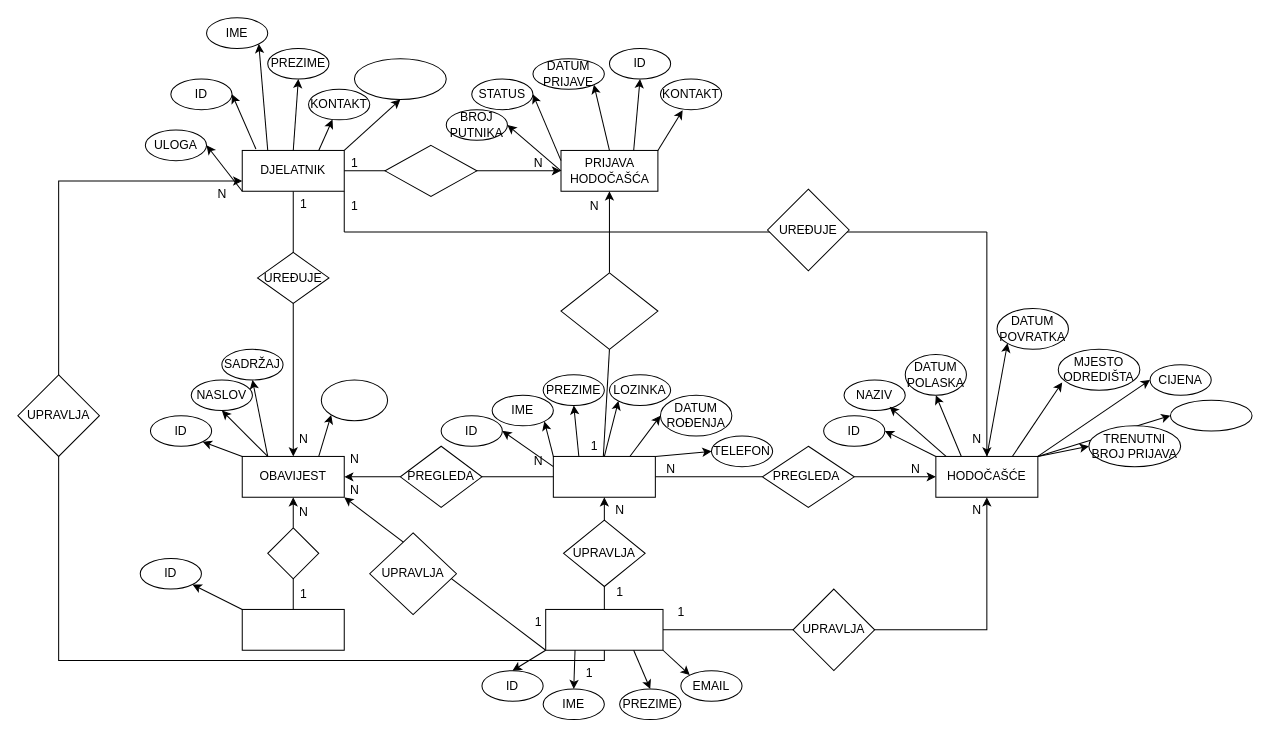
The diagram is 1270 pixels wide and 737 high, and some of its shapes have lost their labels. The centre of each missing label's shape, as x and y in pixels:
"ADMINISTRATOR" belongs at (x=604, y=629).
"DATUM OBJAVE" belongs at (x=354, y=400).
"DATUM ZAPOSLENJA" belongs at (x=399, y=78).
"IMA" belongs at (x=293, y=553).
"KATEGORIJA" belongs at (x=292, y=629).
"KORISNIK" belongs at (x=603, y=476).
"MAX. BROJ PUTNIKA" belongs at (x=1210, y=415).
"PRIJAVLJUJE HODOČAŠĆE" belongs at (x=609, y=310).
"PROVJERAVA" belongs at (x=430, y=170).
